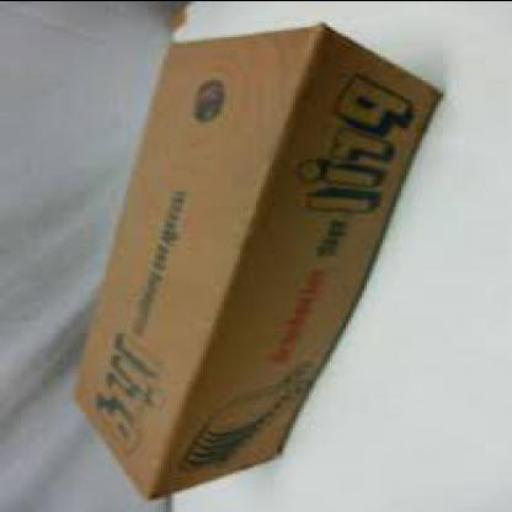cardboard: (72, 20, 440, 496)
